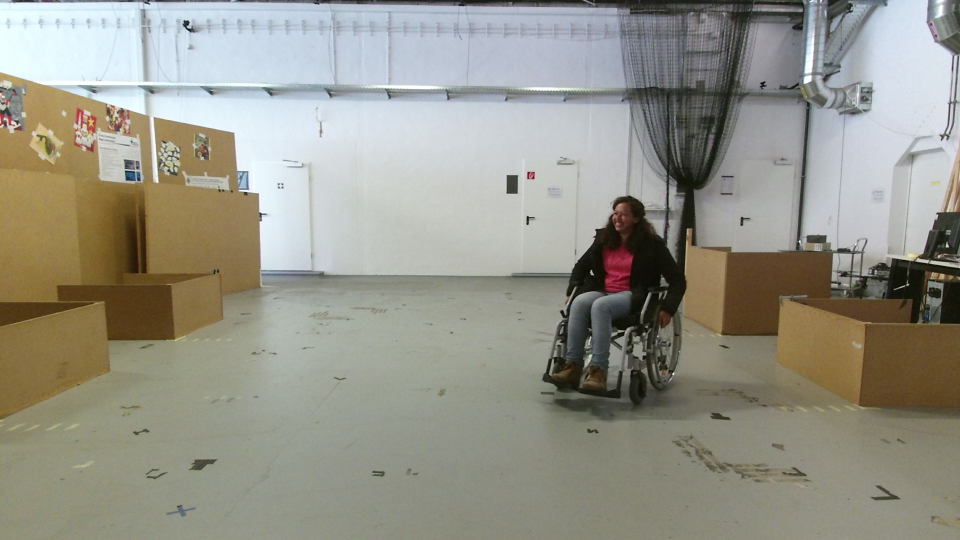wheelchair: (538, 195, 688, 407)
